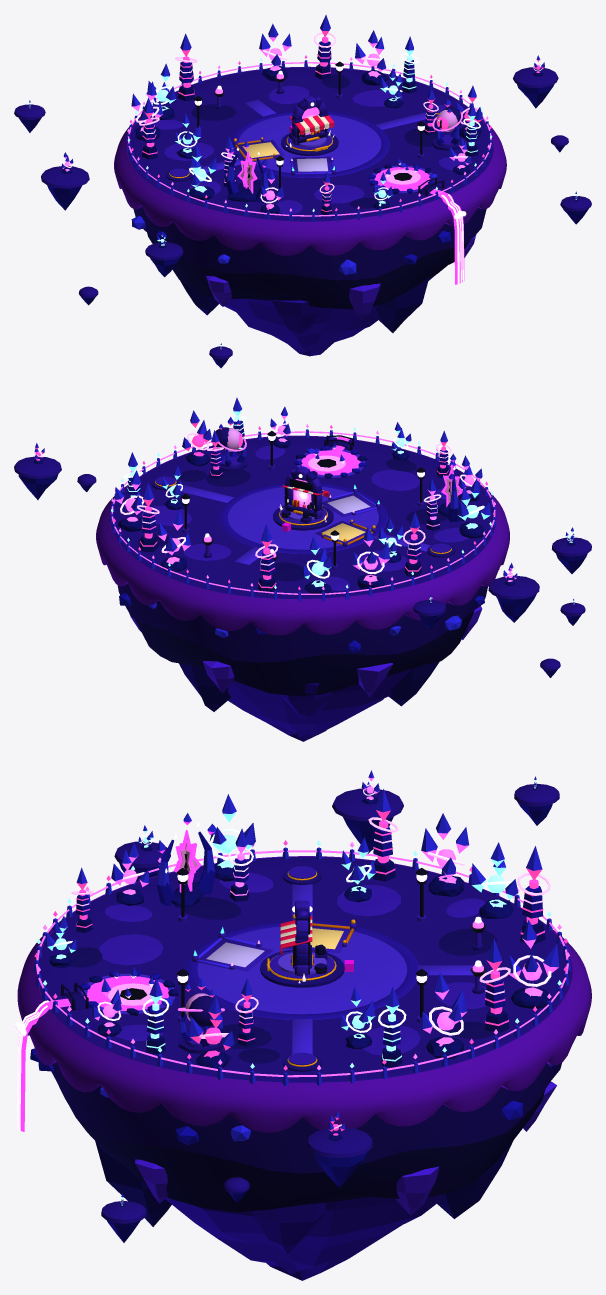
Rendered from the_void_island.fbx.
3 renders of one model, top to bottom at view 1: azimuth 30°, elevation 25°; view 2: azimuth 150°, elevation 25°; view 3: azimuth 270°, elevation 25°, orthographic. The views are drawn at different scales.
Parts seen in each view (by area): view 1: TheVoid_Island, TheVoid_Glow, TheVoid_Trees, TheVoid_Paths, TheVoid_FloatingRocks, TheVoid_Dressing, TheVoid_BossPlinth, TheVoid_Stall, TheVoid_Portal; view 2: TheVoid_Island, TheVoid_Glow, TheVoid_Trees, TheVoid_Paths, TheVoid_FloatingRocks, TheVoid_Dressing, TheVoid_Portal, TheVoid_Stall, TheVoid_BossPlinth; view 3: TheVoid_Island, TheVoid_Glow, TheVoid_Paths, TheVoid_Trees, TheVoid_Dressing, TheVoid_FloatingRocks, TheVoid_BossPlinth, TheVoid_Stall, TheVoid_Portal.
Part boxes in pixels (bbox=[...]): TheVoid_Island: bbox=[114, 66, 506, 356]; TheVoid_Glow: bbox=[28, 28, 577, 349]; TheVoid_Trees: bbox=[131, 14, 482, 215]; TheVoid_Paths: bbox=[166, 99, 448, 181]; TheVoid_FloatingRocks: bbox=[14, 55, 591, 368]; TheVoid_Dressing: bbox=[126, 60, 492, 222]; TheVoid_BossPlinth: bbox=[281, 132, 338, 155]; TheVoid_Stall: bbox=[289, 115, 334, 145]; TheVoid_Portal: bbox=[286, 96, 334, 147]; TheVoid_Island: bbox=[96, 435, 509, 741]; TheVoid_Glow: bbox=[34, 410, 574, 604]; TheVoid_Trees: bbox=[115, 397, 490, 593]; TheVoid_Paths: bbox=[151, 476, 455, 564]; TheVoid_FloatingRocks: bbox=[14, 443, 591, 677]; TheVoid_Dressing: bbox=[110, 417, 496, 601]; TheVoid_Portal: bbox=[279, 467, 326, 522]; TheVoid_Stall: bbox=[281, 478, 329, 523]; TheVoid_BossPlinth: bbox=[273, 505, 333, 530]; TheVoid_Island: bbox=[17, 856, 591, 1280]; TheVoid_Glow: bbox=[14, 777, 569, 1205]; TheVoid_Paths: bbox=[185, 866, 473, 1071]; TheVoid_Trees: bbox=[45, 789, 559, 1068]; TheVoid_Dressing: bbox=[33, 813, 571, 1085]; TheVoid_FloatingRocks: bbox=[101, 770, 559, 1242]; TheVoid_BossPlinth: bbox=[260, 949, 344, 987]; TheVoid_Stall: bbox=[280, 912, 327, 974]; TheVoid_Portal: bbox=[292, 900, 312, 983].
Bounding box in the file's own units: 181 × 94.92 × 123.
